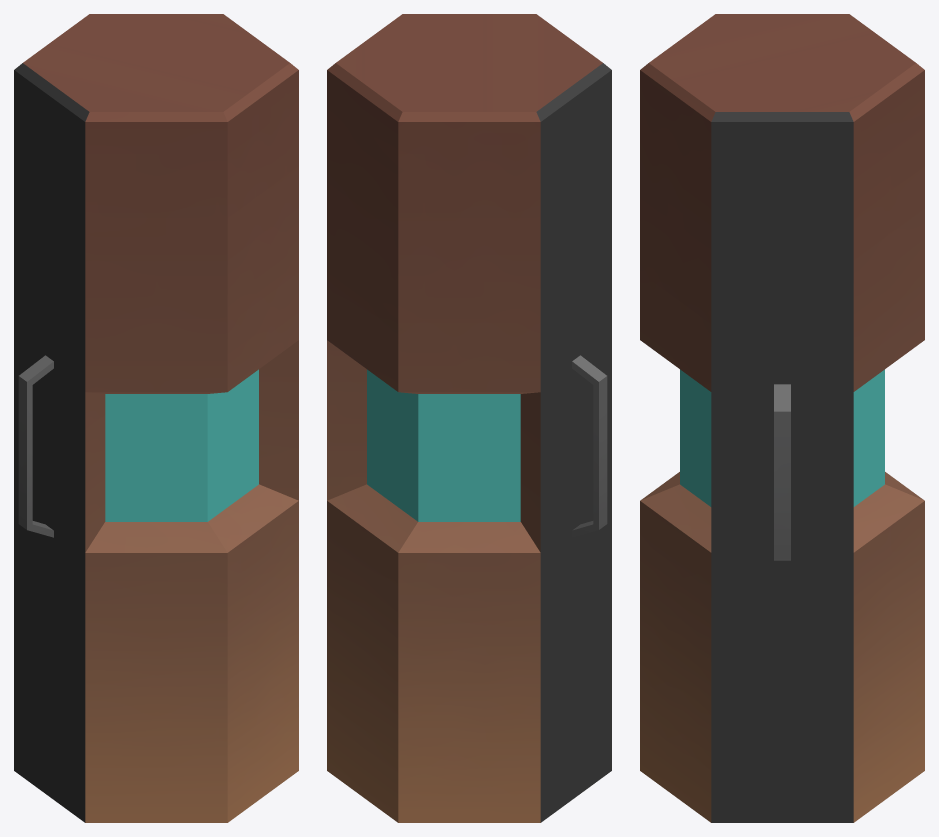
The model's file is caisse_cylindre.FBX.
3 views of the same model, side by side, from view 1: azimuth 30°, elevation 25°; view 2: azimuth 150°, elevation 25°; view 3: azimuth 270°, elevation 25° (orthographic).
Visible parts, largest first — view 1: caisse_cylindre; view 2: caisse_cylindre; view 3: caisse_cylindre.
Part boxes in pixels (<box>): caisse_cylindre: <box>14,14,298,822</box>; caisse_cylindre: <box>327,14,611,822</box>; caisse_cylindre: <box>640,14,924,822</box>.
Bounding box in the file's own units: 4.11 × 10.41 × 3.8.
